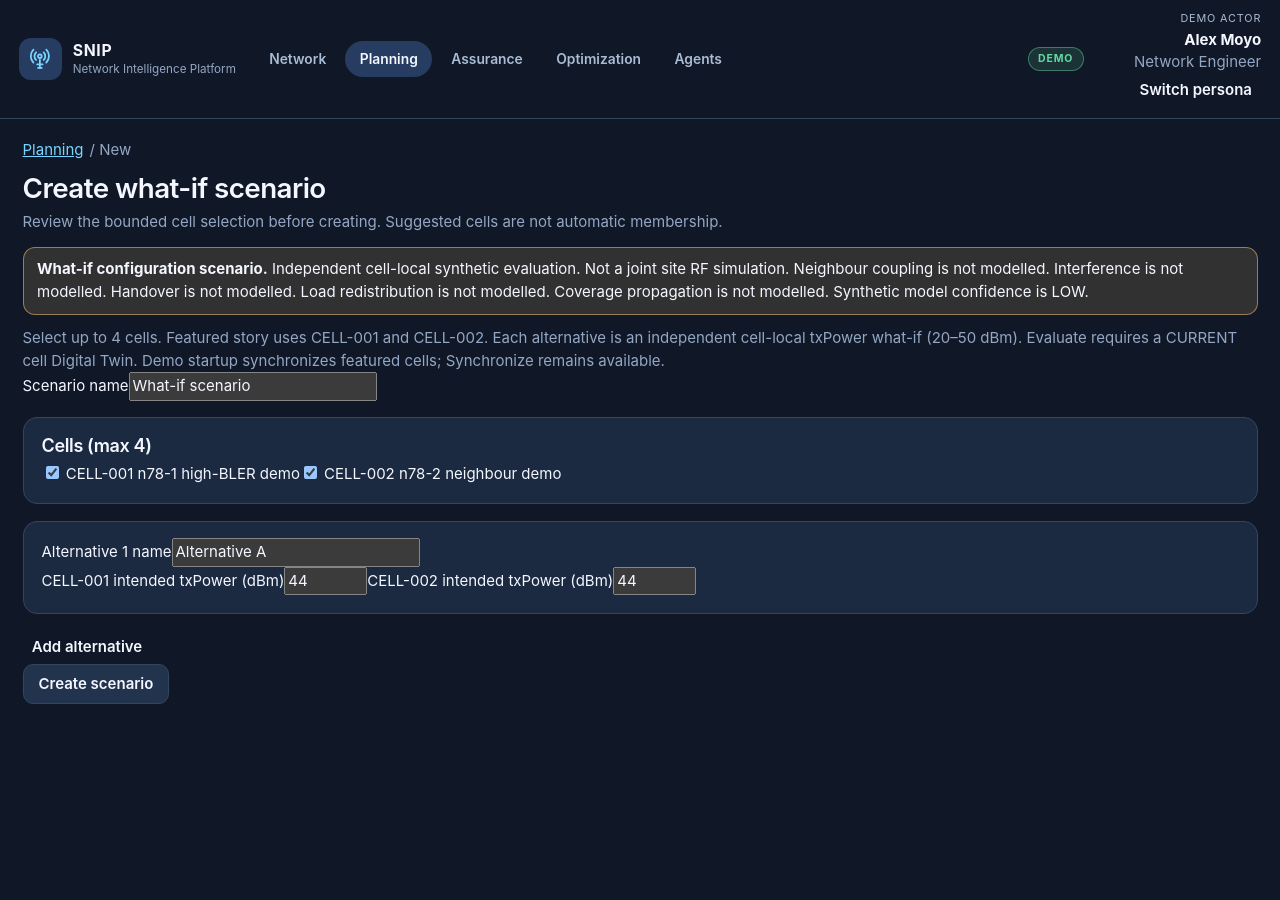
Test case: Increment 7 what-if configuration scenario workspace › creates a scenario from selected cells and does not auto-evaluate
Expected: the heading "Create what-if scenario" is shown, x1=22 y1=171 x2=326 y2=205
Expected: the checkbox labelled "CELL-001 n78-1 high-BLER demo" is checked, x1=46 y1=466 x2=58 y2=479
Click the button "Create scenario".
click(96, 684)  # box x1=22 y1=664 x2=169 y2=704
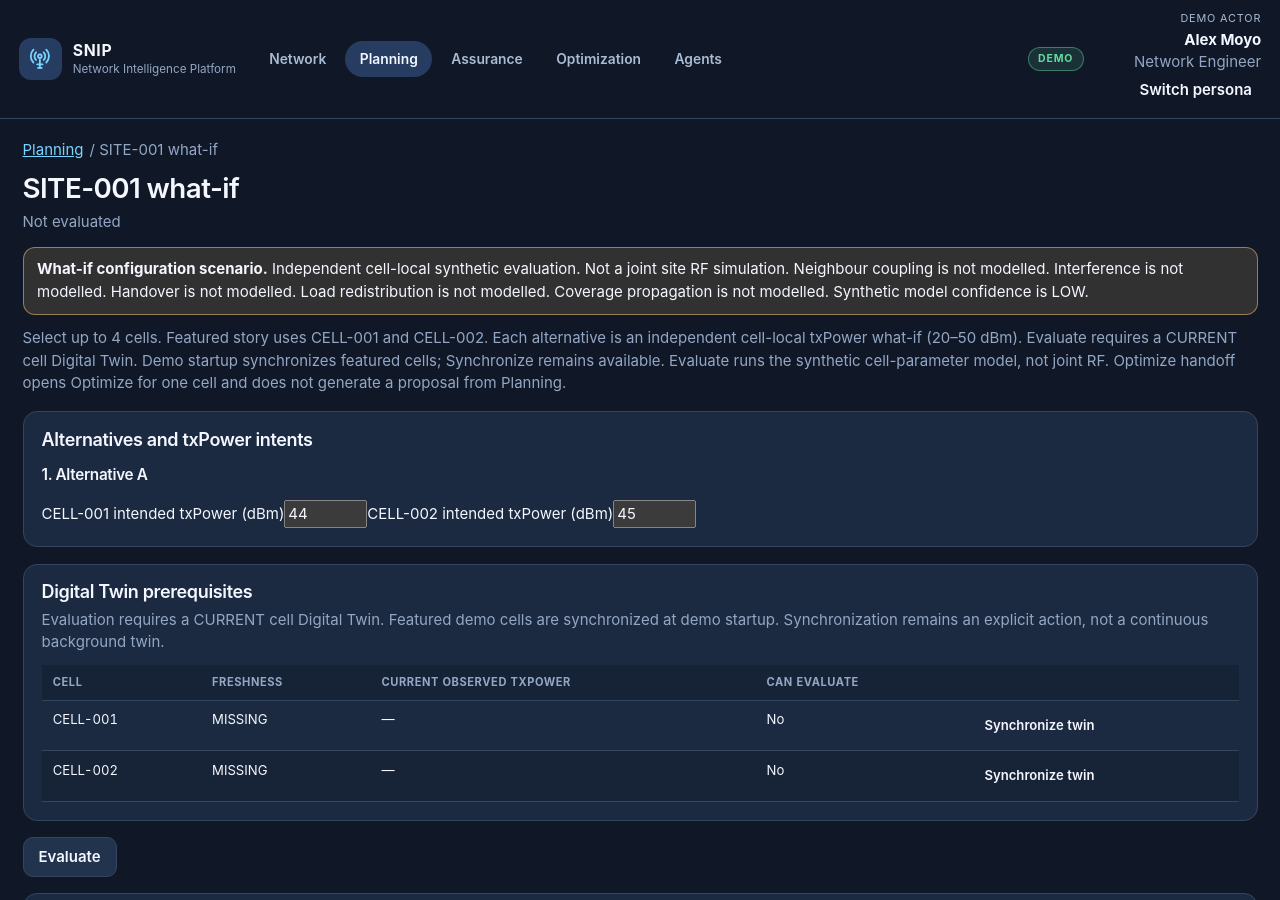
Result: the heading "SITE-001 what-if" is shown at x1=22 y1=171 x2=239 y2=205
Result: the button "Evaluate" is shown at x1=22 y1=837 x2=117 y2=877
